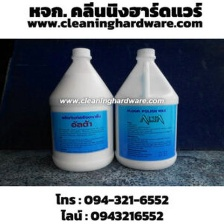cleaning_solution: (46, 45, 116, 174), (110, 46, 181, 172)
